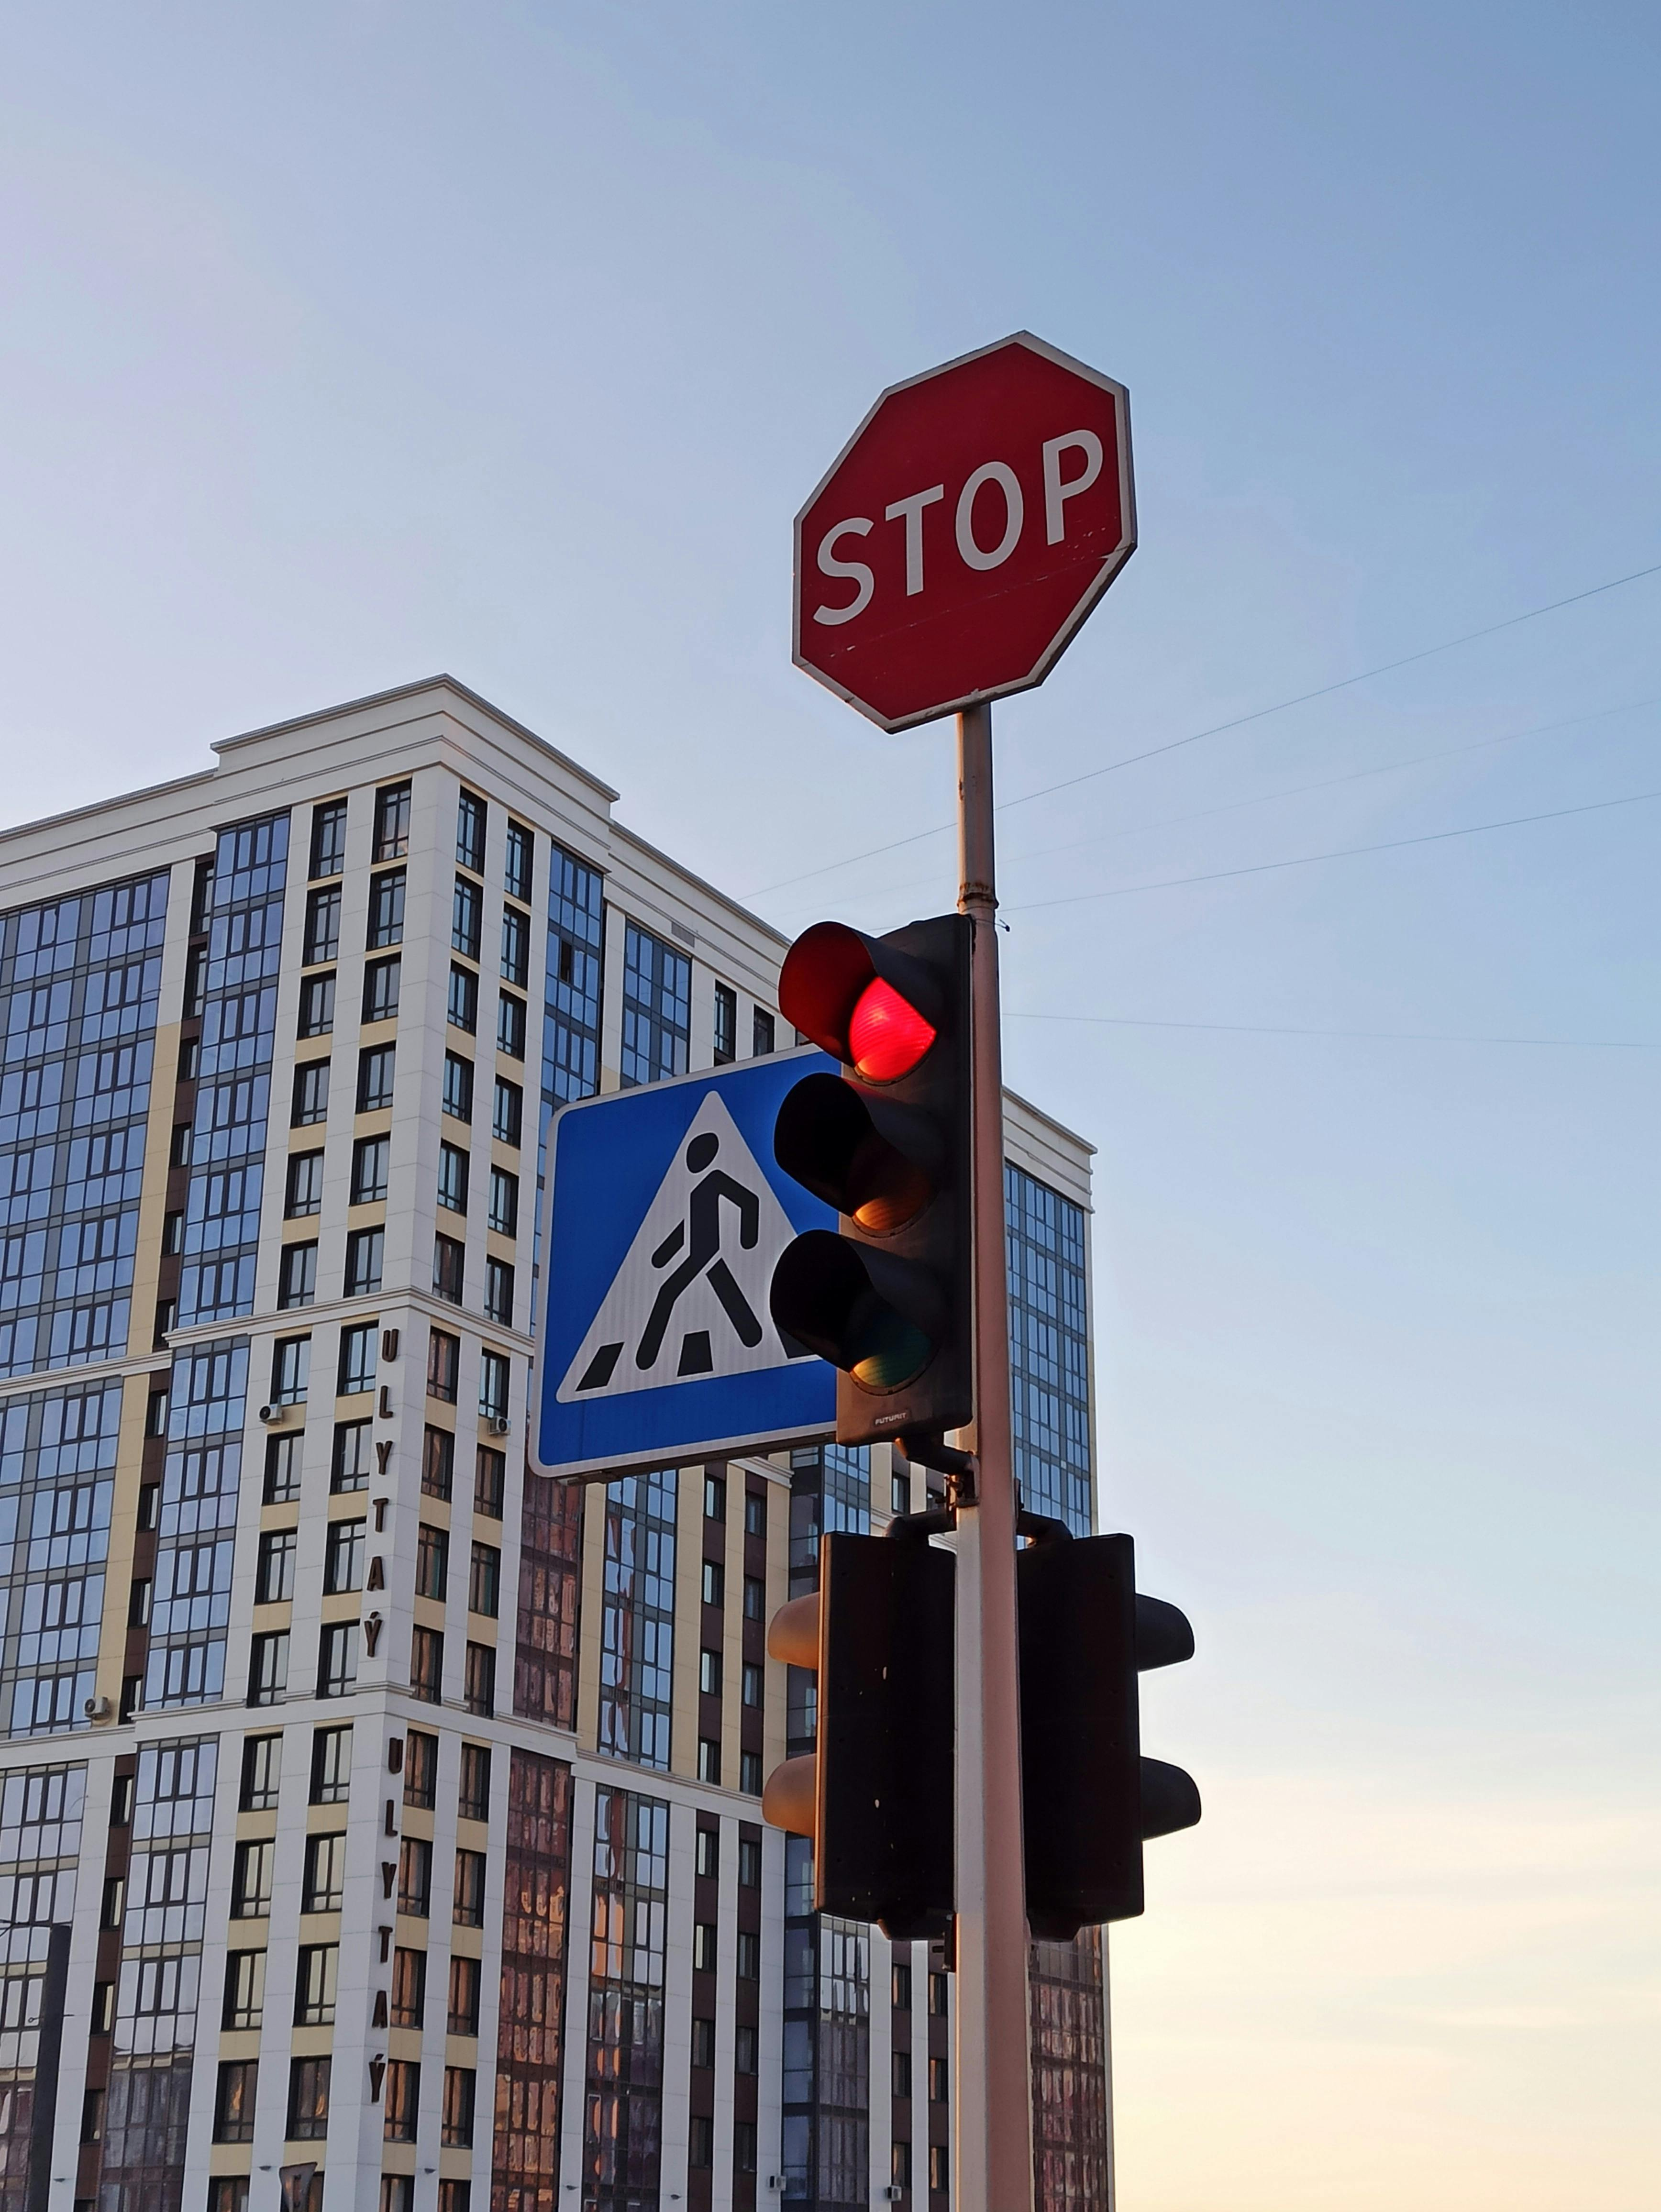trfl: (785, 925, 988, 1444)
